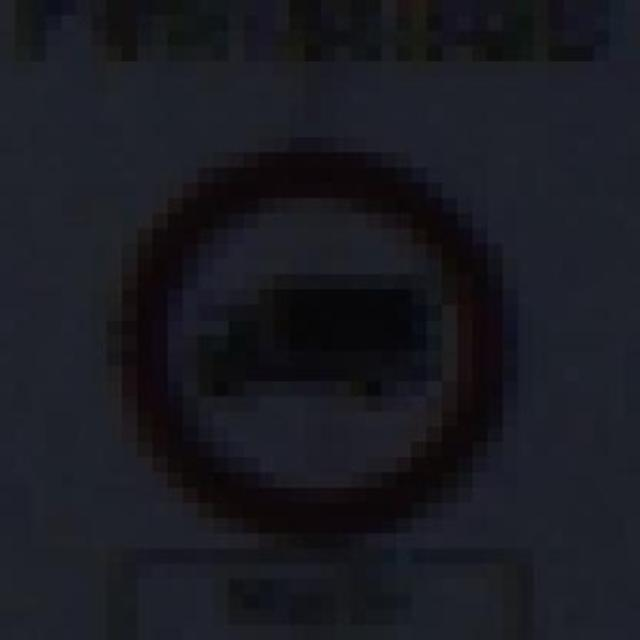Truck traffic is prohibited: (91, 122, 548, 549)
